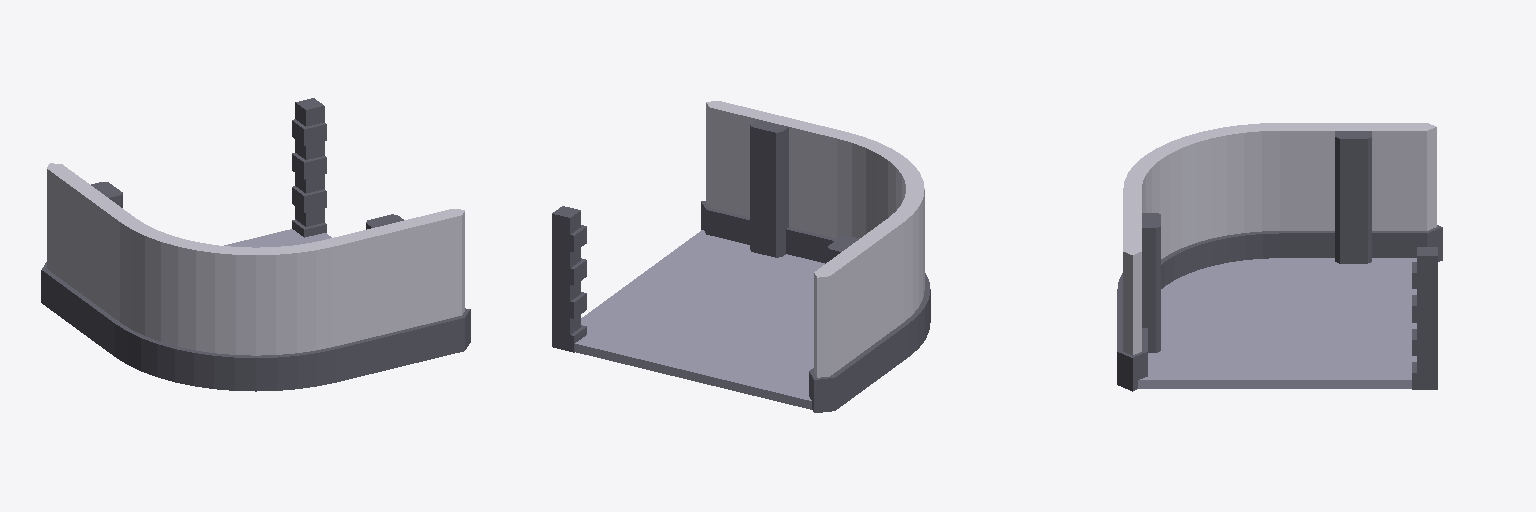
Rendered from corner_03.obj.
The picture shows the model from 3 angles: view 1: azimuth 30°, elevation 25°; view 2: azimuth 150°, elevation 25°; view 3: azimuth 270°, elevation 25°; orthographic projection.
Parts seen in each view (by area): view 1: corner_03_9, wall_02_2, wall_02_3, wall_borderBricks_7, floor_03_8; view 2: floor_03_8, wall_02_2, wall_02_3, corner_03_9, wall_borderBricks_7; view 3: floor_03_8, wall_02_3, corner_03_9, wall_02_2, wall_borderBricks_7.
Boxes of the visible parts, <box> form: corner_03_9: <box>115,217,337,391</box>; wall_02_2: <box>323,209,470,381</box>; wall_02_3: <box>41,163,134,356</box>; wall_borderBricks_7: <box>292,98,326,237</box>; floor_03_8: <box>224,229,331,247</box>; floor_03_8: <box>575,230,824,409</box>; wall_02_2: <box>701,101,848,263</box>; wall_02_3: <box>809,218,908,412</box>; corner_03_9: <box>833,132,930,356</box>; wall_borderBricks_7: <box>552,206,586,352</box>; floor_03_8: <box>1138,258,1416,388</box>; wall_02_3: <box>1272,123,1442,263</box>; corner_03_9: <box>1118,123,1284,288</box>; wall_02_2: <box>1117,189,1160,391</box>; wall_borderBricks_7: <box>1412,247,1437,389</box>.
Bounding box in the file's own units: 2.21 × 1 × 2.21.